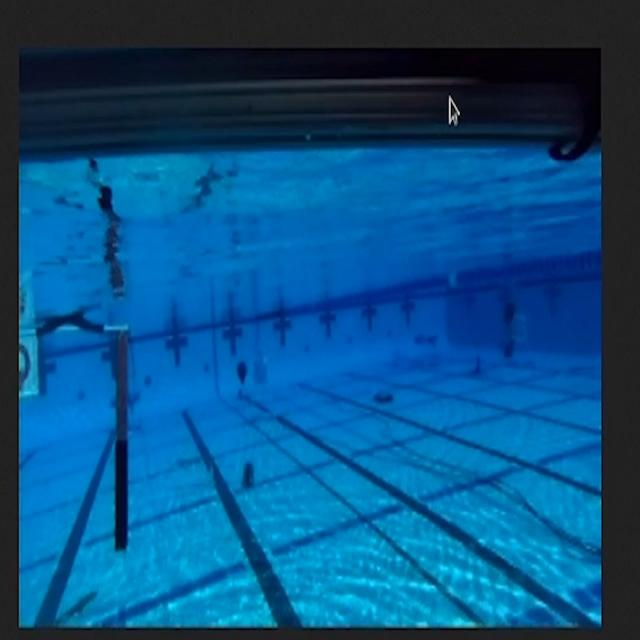Gate: (18, 318, 133, 567)
